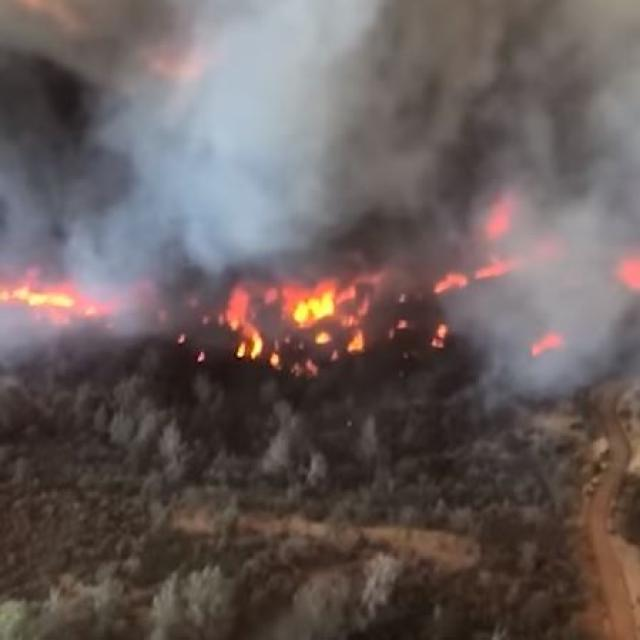Fire: (202, 282, 266, 361), (0, 264, 87, 317), (283, 263, 356, 320), (419, 259, 524, 298), (307, 322, 378, 357), (480, 197, 518, 244), (526, 329, 578, 362), (412, 319, 457, 351), (268, 347, 314, 378), (614, 247, 640, 298)
Smoke: (5, 0, 640, 399)
